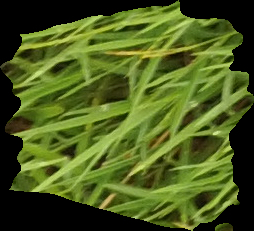grass: (1, 1, 253, 230)
